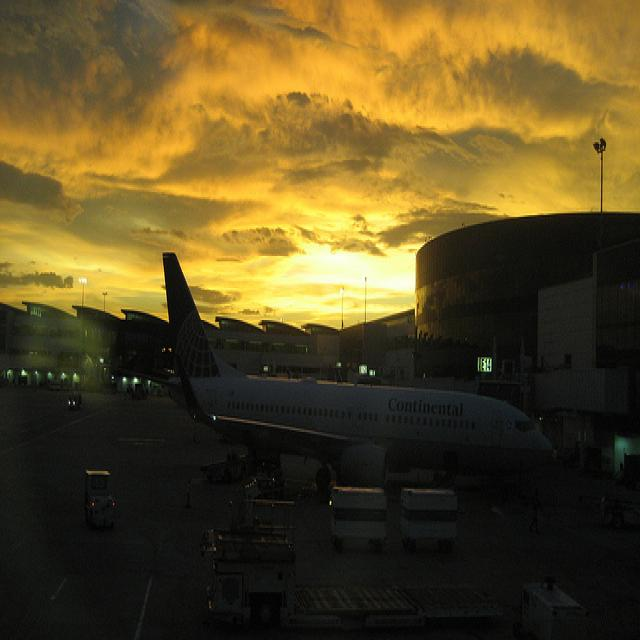Vehicle: (84, 468, 115, 527)
